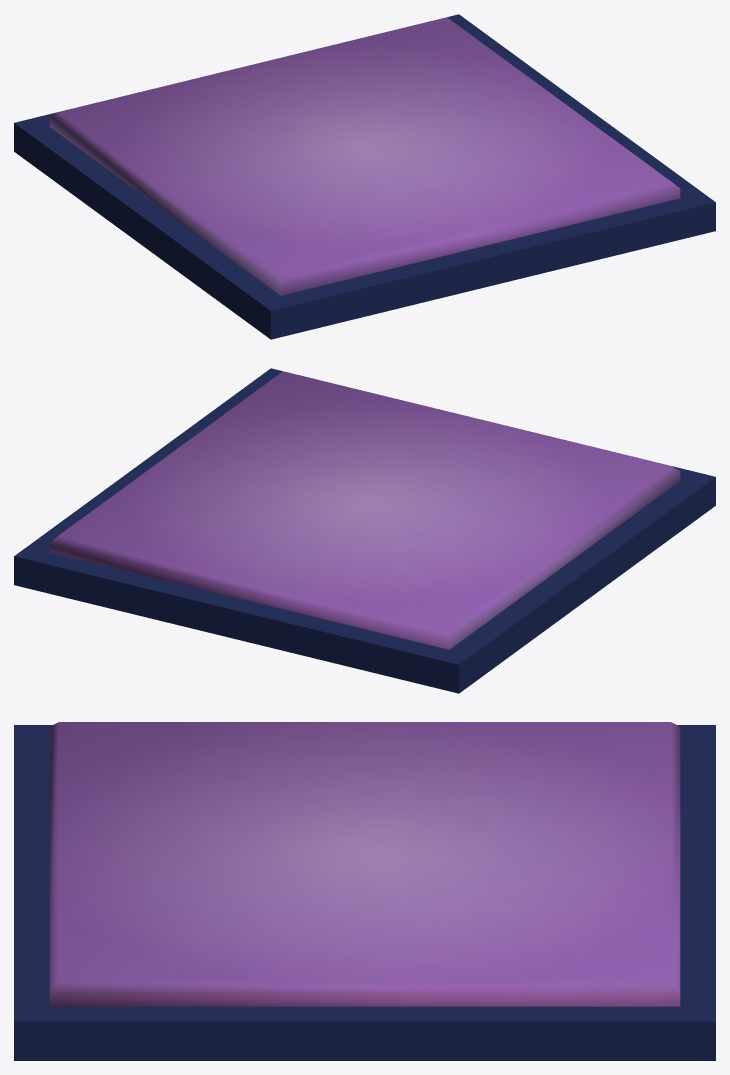
The model's file is tilePurple.glb.
3 renders of one model, top to bottom at view 1: azimuth 30°, elevation 25°; view 2: azimuth 150°, elevation 25°; view 3: azimuth 270°, elevation 25°, orthographic. The views are drawn at different scales.
Parts seen in each view (by area): view 1: TilePurple; view 2: TilePurple; view 3: TilePurple.
Part boxes in pixels (bbox=[...]): TilePurple: bbox=[14, 14, 715, 339]; TilePurple: bbox=[14, 368, 715, 693]; TilePurple: bbox=[14, 722, 715, 1060].
Size of what is drawn, in the model's own units: 2 by 0.192 by 2.
Materials: 1 (1 with a texture image).
